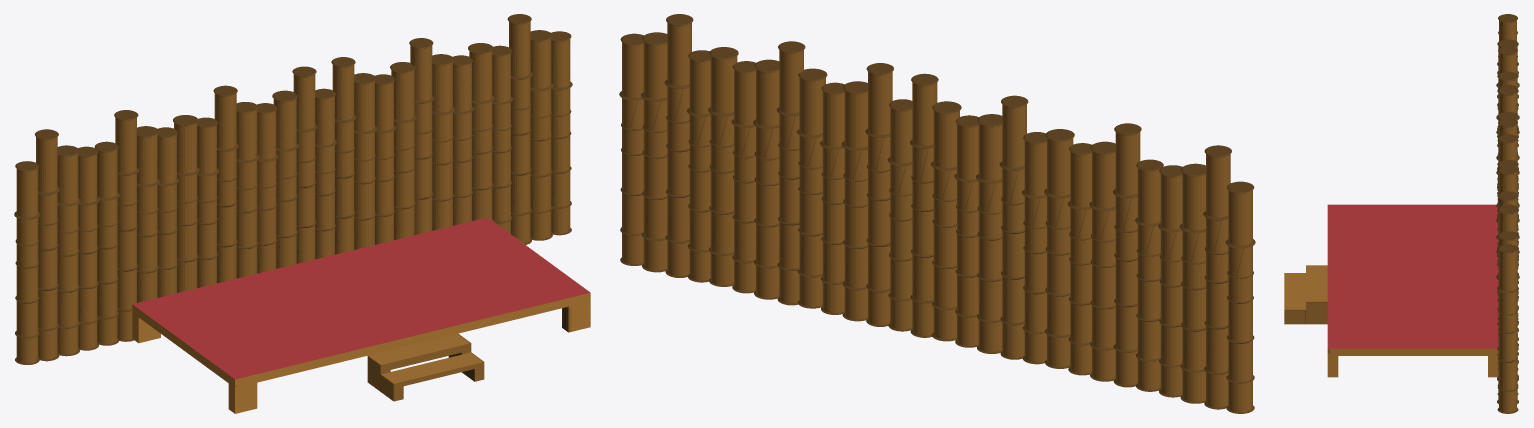
The model's file is stage.fbx.
3 renders of one model, left to right at view 1: azimuth 30°, elevation 25°; view 2: azimuth 150°, elevation 25°; view 3: azimuth 270°, elevation 25°, orthographic. The views are drawn at different scales.
Visible parts, largest first — view 1: bamboow.001, bamboow.003; view 2: bamboow.001; view 3: bamboow.003, bamboow.001.
Boxes of the visible parts, left/top/right/bottom form: bamboow.001: left=14, top=14, right=572, bottom=364; bamboow.003: left=132, top=217, right=590, bottom=413; bamboow.001: left=619, top=14, right=1255, bottom=413; bamboow.003: left=1284, top=204, right=1498, bottom=377; bamboow.001: left=1496, top=14, right=1519, bottom=413.
Size of the model in its own units: 1670 by 640 by 738.
3 materials, 3 textured.
